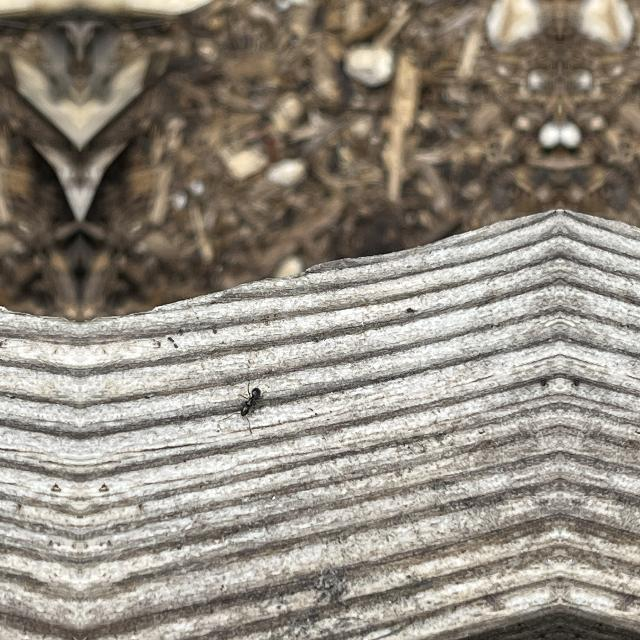Tapinoma: (233, 376, 264, 422)
